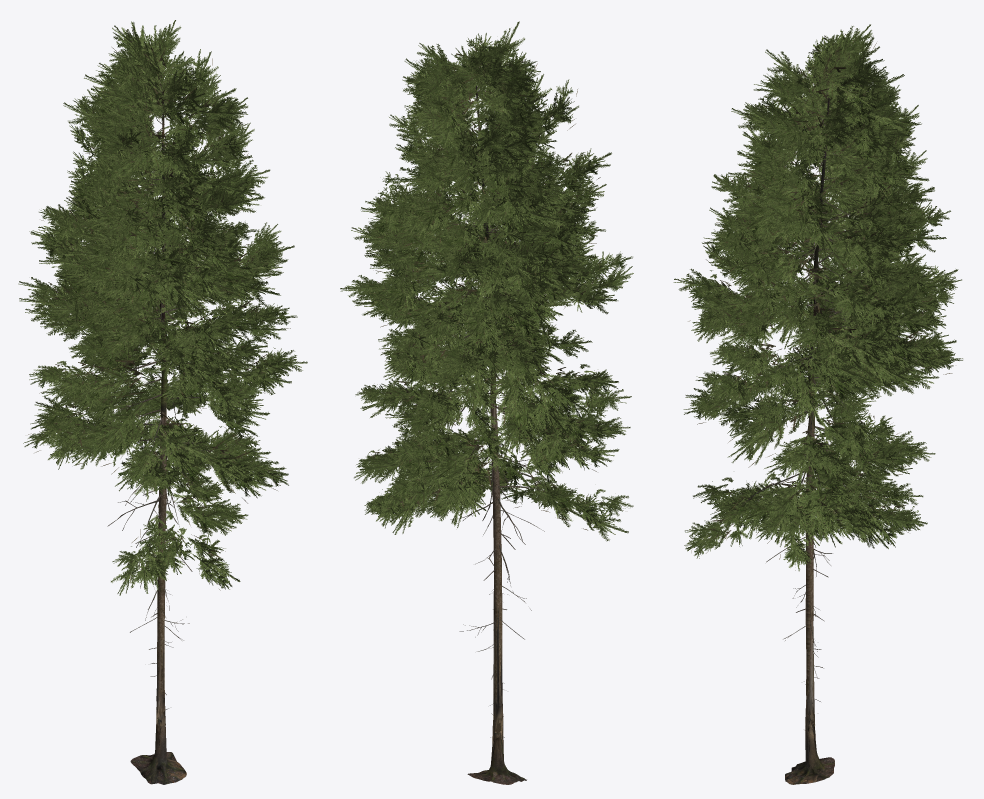
3 renders of one model, left to right at view 1: azimuth 30°, elevation 25°; view 2: azimuth 150°, elevation 25°; view 3: azimuth 270°, elevation 25°, orthographic. The views are drawn at different scales.
Visible parts, largest first — view 1: low, high; view 2: low, high; view 3: low, high.
Boxes of the visible parts, x1,y1,x2,y2 form: low: [18, 20, 307, 784]; high: [30, 28, 293, 784]; low: [340, 21, 633, 784]; high: [354, 33, 625, 784]; low: [673, 24, 962, 784]; high: [684, 31, 961, 784].
Size of the model in its own units: 7.12 by 19.38 by 6.93.
4 materials, 4 textured.
